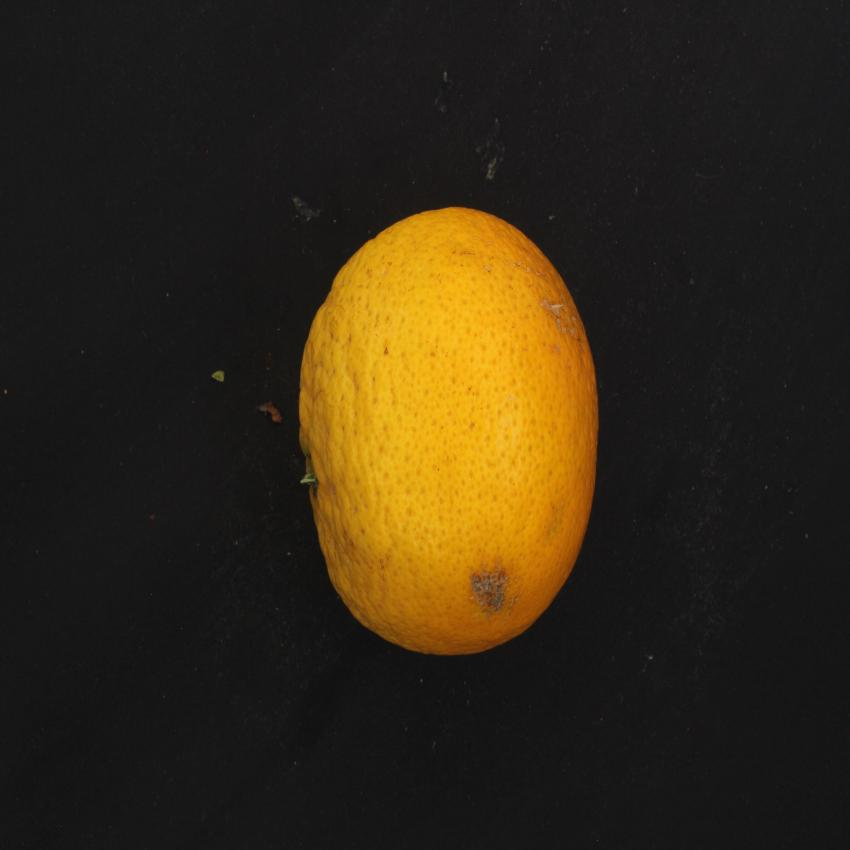Buen estado: (288, 196, 612, 678)
